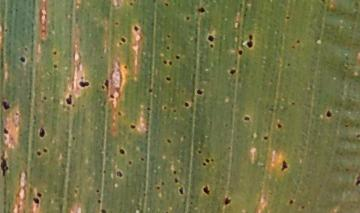tarspot: (1, 150, 8, 177), (280, 160, 289, 171), (2, 100, 11, 110), (65, 94, 73, 105), (202, 184, 210, 195), (78, 80, 89, 87), (224, 197, 232, 206), (104, 79, 110, 90), (197, 7, 206, 14), (39, 128, 45, 138), (19, 55, 26, 63), (230, 68, 237, 76), (207, 35, 215, 42), (246, 40, 253, 48), (325, 110, 332, 118), (116, 170, 123, 178), (32, 197, 40, 204), (184, 101, 191, 108), (120, 36, 127, 43), (355, 175, 360, 184), (179, 186, 184, 195), (3, 27, 9, 34), (119, 148, 125, 155), (3, 128, 9, 135), (42, 146, 48, 153), (36, 192, 43, 198), (117, 109, 122, 117), (174, 176, 179, 184), (100, 84, 106, 90), (109, 93, 115, 99), (196, 89, 202, 95), (175, 54, 181, 60), (35, 150, 41, 156), (263, 135, 269, 141), (276, 123, 282, 129), (238, 49, 244, 55), (285, 14, 291, 20), (155, 184, 161, 190), (134, 25, 139, 32), (344, 167, 351, 172), (95, 187, 100, 194), (73, 188, 78, 195), (269, 106, 274, 113), (14, 111, 20, 116), (53, 63, 58, 69), (79, 76, 85, 81), (130, 124, 136, 129), (167, 139, 173, 144), (205, 158, 210, 164), (162, 105, 167, 111), (148, 87, 153, 93), (165, 76, 171, 81), (114, 21, 120, 26), (185, 15, 190, 21), (71, 135, 76, 141), (226, 145, 232, 150), (224, 122, 229, 128), (245, 115, 250, 121), (289, 199, 294, 205), (101, 208, 107, 213), (128, 160, 133, 165), (140, 157, 145, 162), (210, 158, 215, 163), (160, 180, 165, 185), (43, 95, 47, 101), (53, 50, 57, 56), (198, 149, 202, 155), (166, 45, 170, 51), (209, 44, 215, 48), (249, 34, 253, 40), (301, 204, 305, 210), (189, 200, 193, 206), (98, 199, 102, 205), (99, 56, 105, 60), (24, 46, 28, 51), (172, 170, 177, 174), (172, 109, 177, 113), (129, 2, 134, 6), (163, 60, 167, 65), (169, 61, 173, 66), (296, 38, 300, 43), (286, 63, 291, 67), (291, 101, 295, 106), (345, 124, 349, 129), (356, 133, 360, 138), (147, 107, 151, 111), (124, 65, 128, 69), (119, 42, 123, 46), (167, 34, 171, 38), (165, 3, 169, 7), (243, 13, 247, 17), (291, 45, 295, 49), (203, 163, 207, 166), (104, 170, 107, 174), (320, 1, 326, 3), (165, 211, 169, 213)
